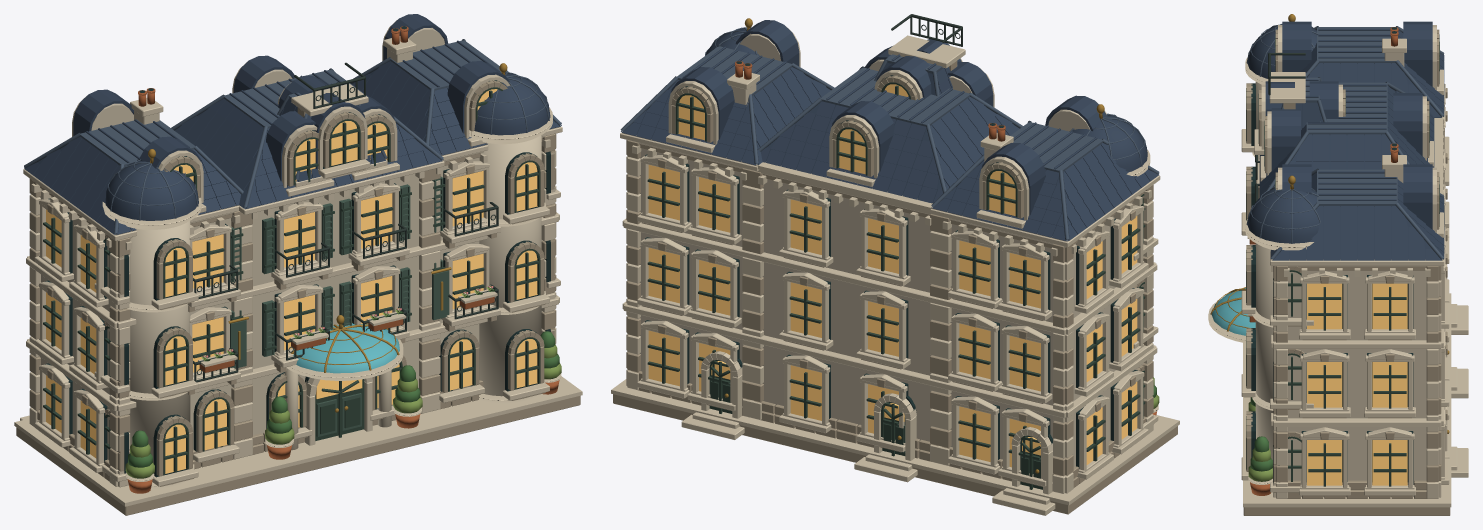
3 views of the same model, side by side, from view 1: azimuth 30°, elevation 25°; view 2: azimuth 150°, elevation 25°; view 3: azimuth 270°, elevation 25° (orthographic). The views are drawn at different scales.
Visible parts, largest first — view 1: classic_skyscraper_3_geometry; view 2: classic_skyscraper_3_geometry; view 3: classic_skyscraper_3_geometry.
Boxes of the visible parts, x1,y1,x2,y2 form: classic_skyscraper_3_geometry: (14, 14, 582, 515); classic_skyscraper_3_geometry: (611, 14, 1179, 515); classic_skyscraper_3_geometry: (1208, 14, 1468, 515).
Bounding box in the file's own units: 1.95 × 1.5 × 1.02.
